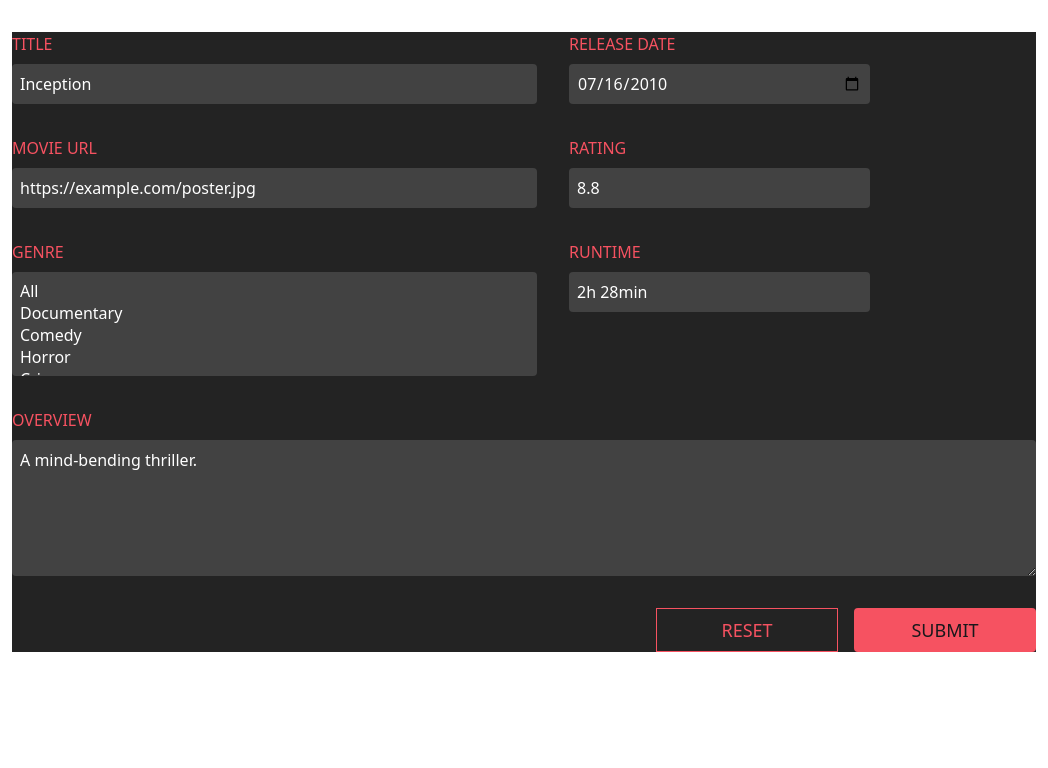
Test case: MovieForm Component › resets the form fields when the reset button is clicked
In the field labelled "Title": (274, 84) x1=12 y1=64 x2=537 y2=104, type "AAA"
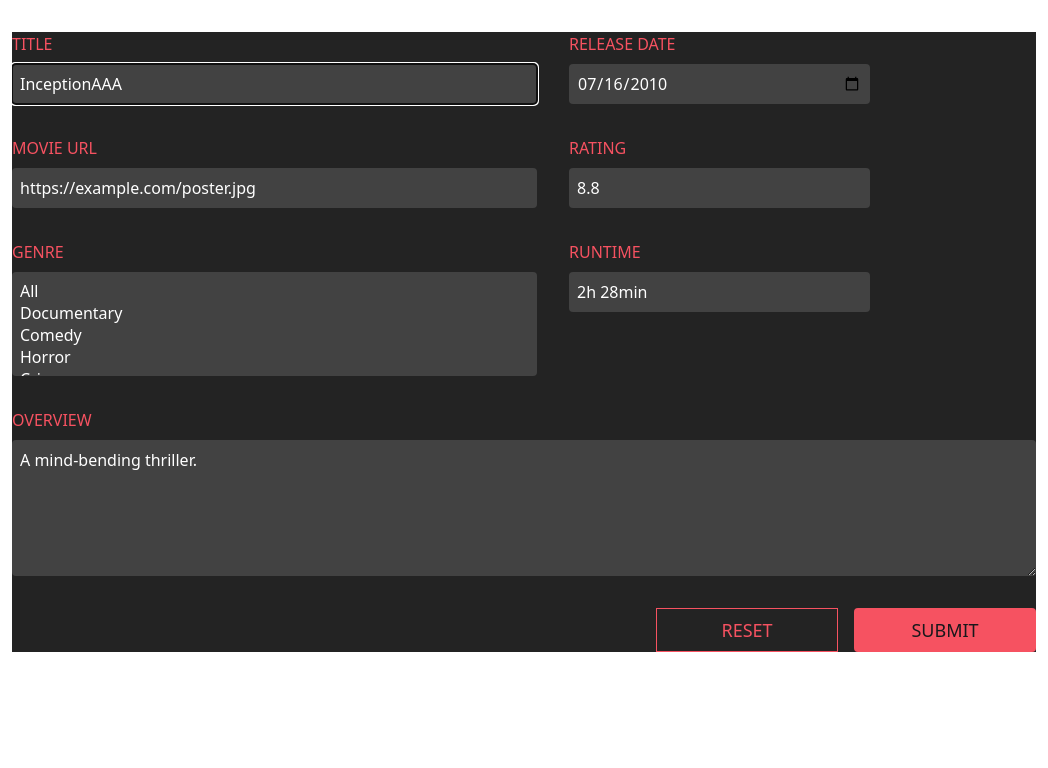
Click the button "Reset": (747, 630) x1=656 y1=608 x2=838 y2=652
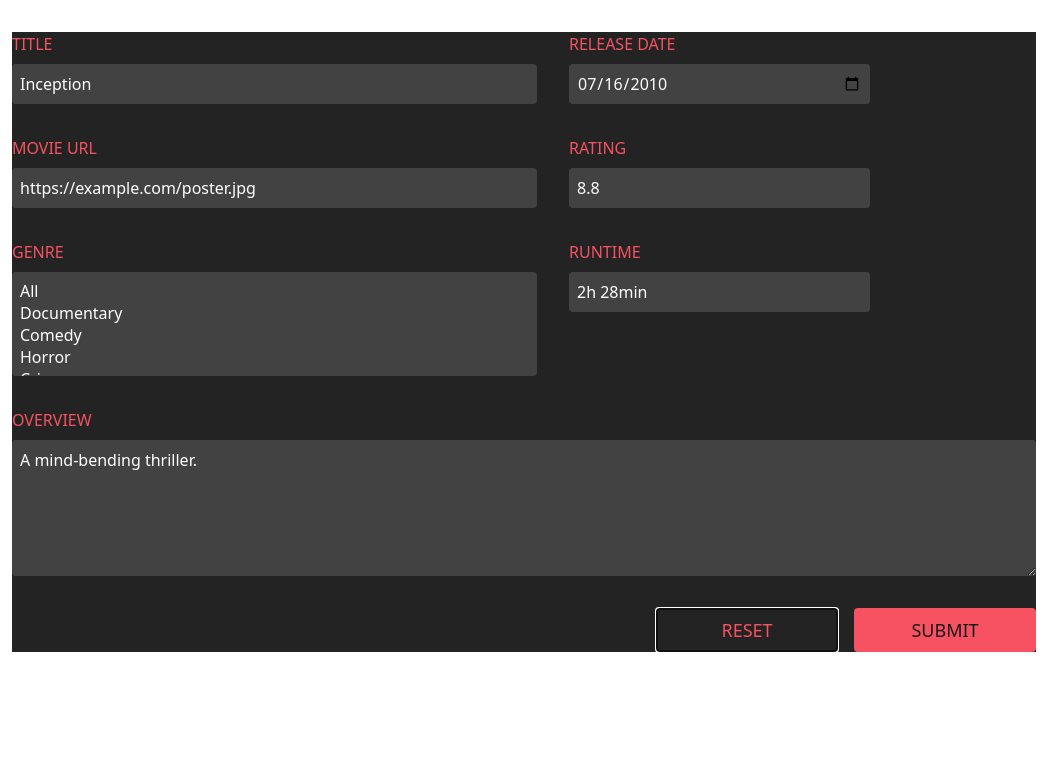
Expected: the field labelled "Title" holds "Inception", x1=12 y1=64 x2=537 y2=104
